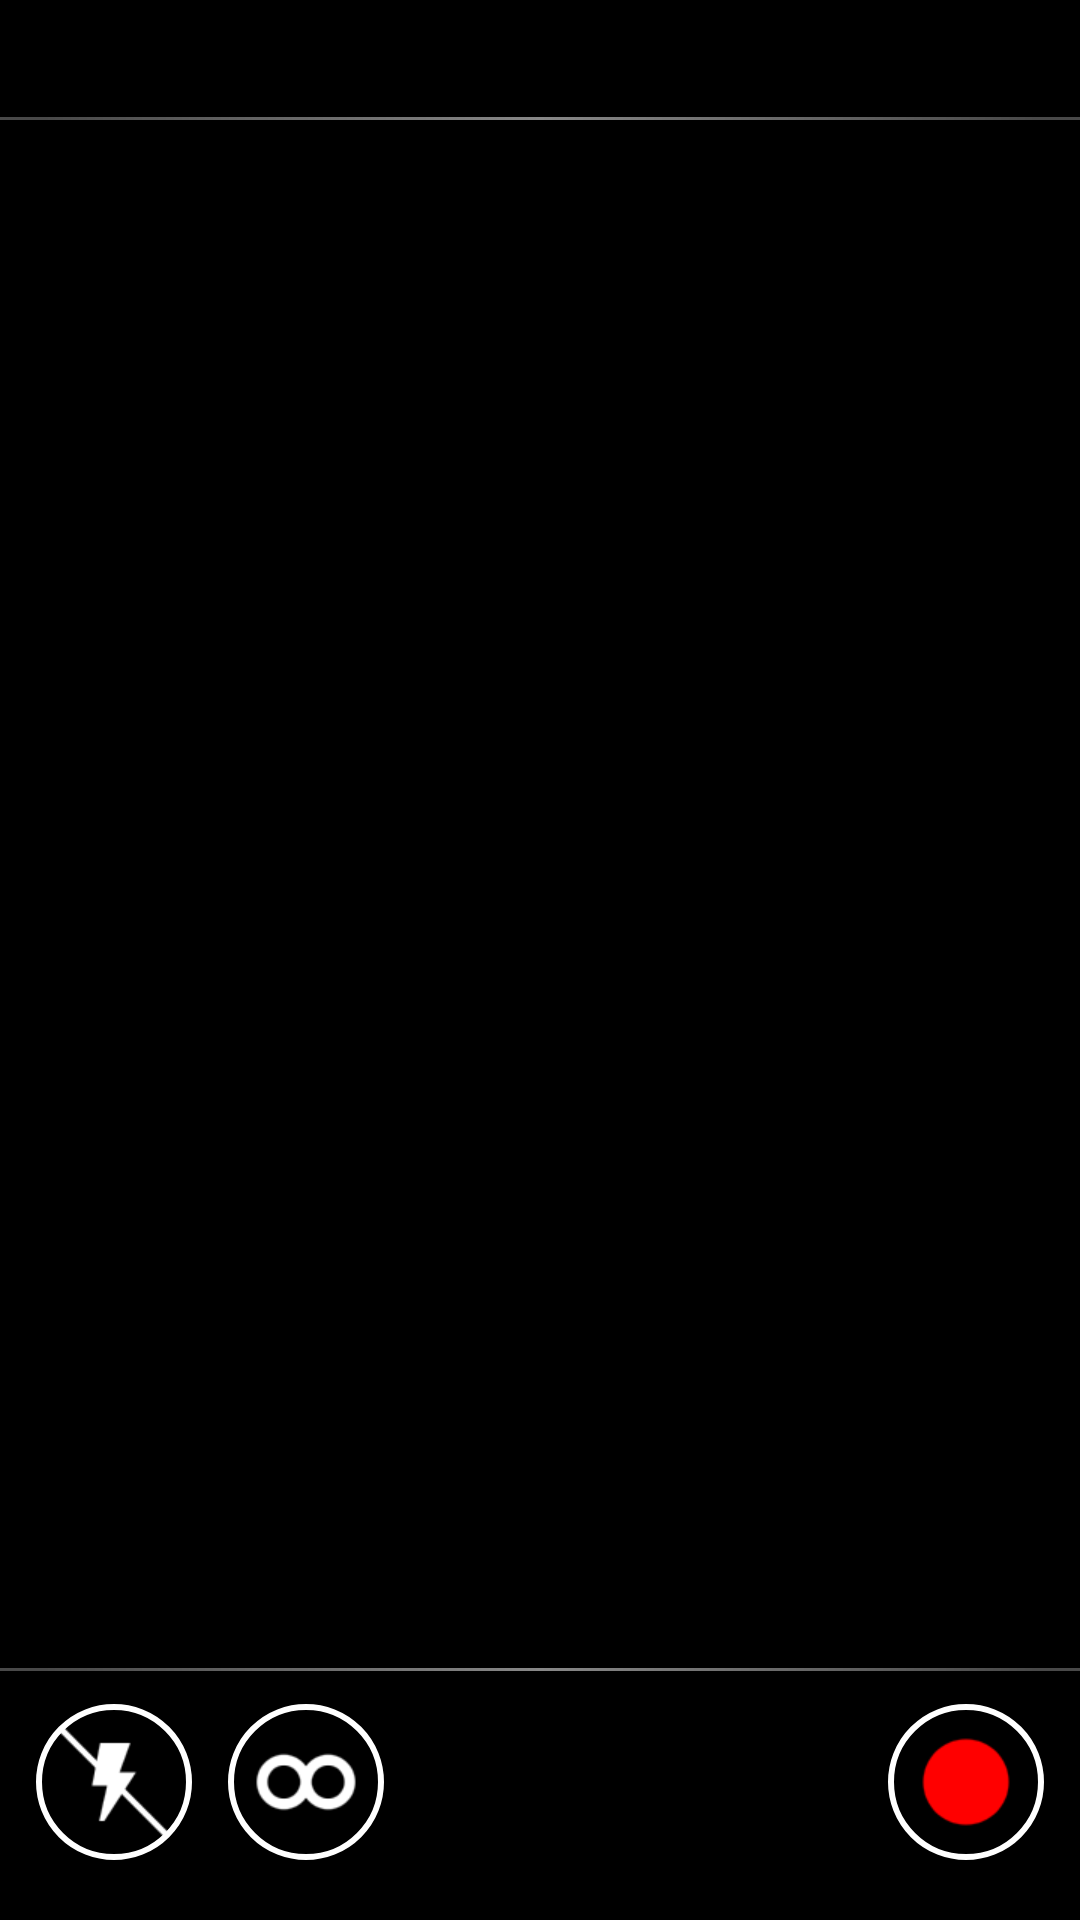

Screen size 1080px×1920px. Icon name, then its box in pixels as box=[x1, y1, x2, y2]:
Allows selection of the focus mode: box=[228, 1704, 384, 1860]
Enables or disables the flash: box=[36, 1704, 192, 1860]
Starts or stops recording: box=[888, 1704, 1044, 1860]
